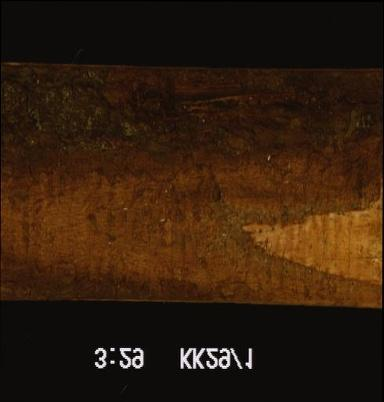wave: (0, 63, 382, 300)
